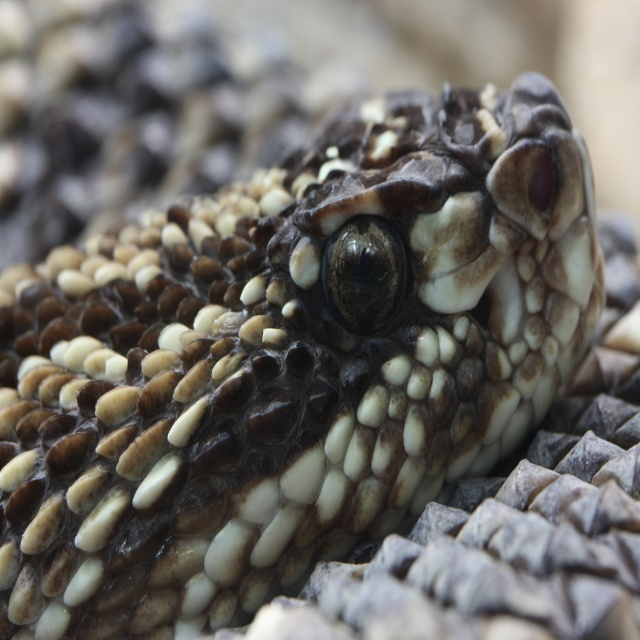Snake: (0, 69, 640, 640)
